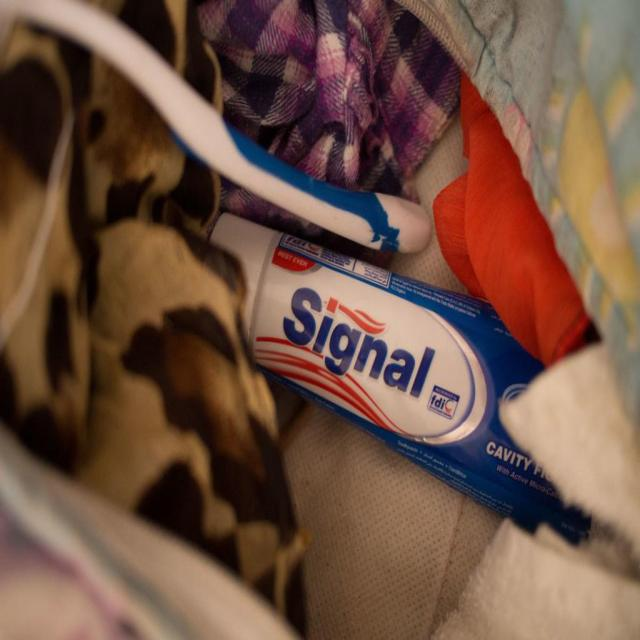Toothpaste: (193, 208, 617, 550)
